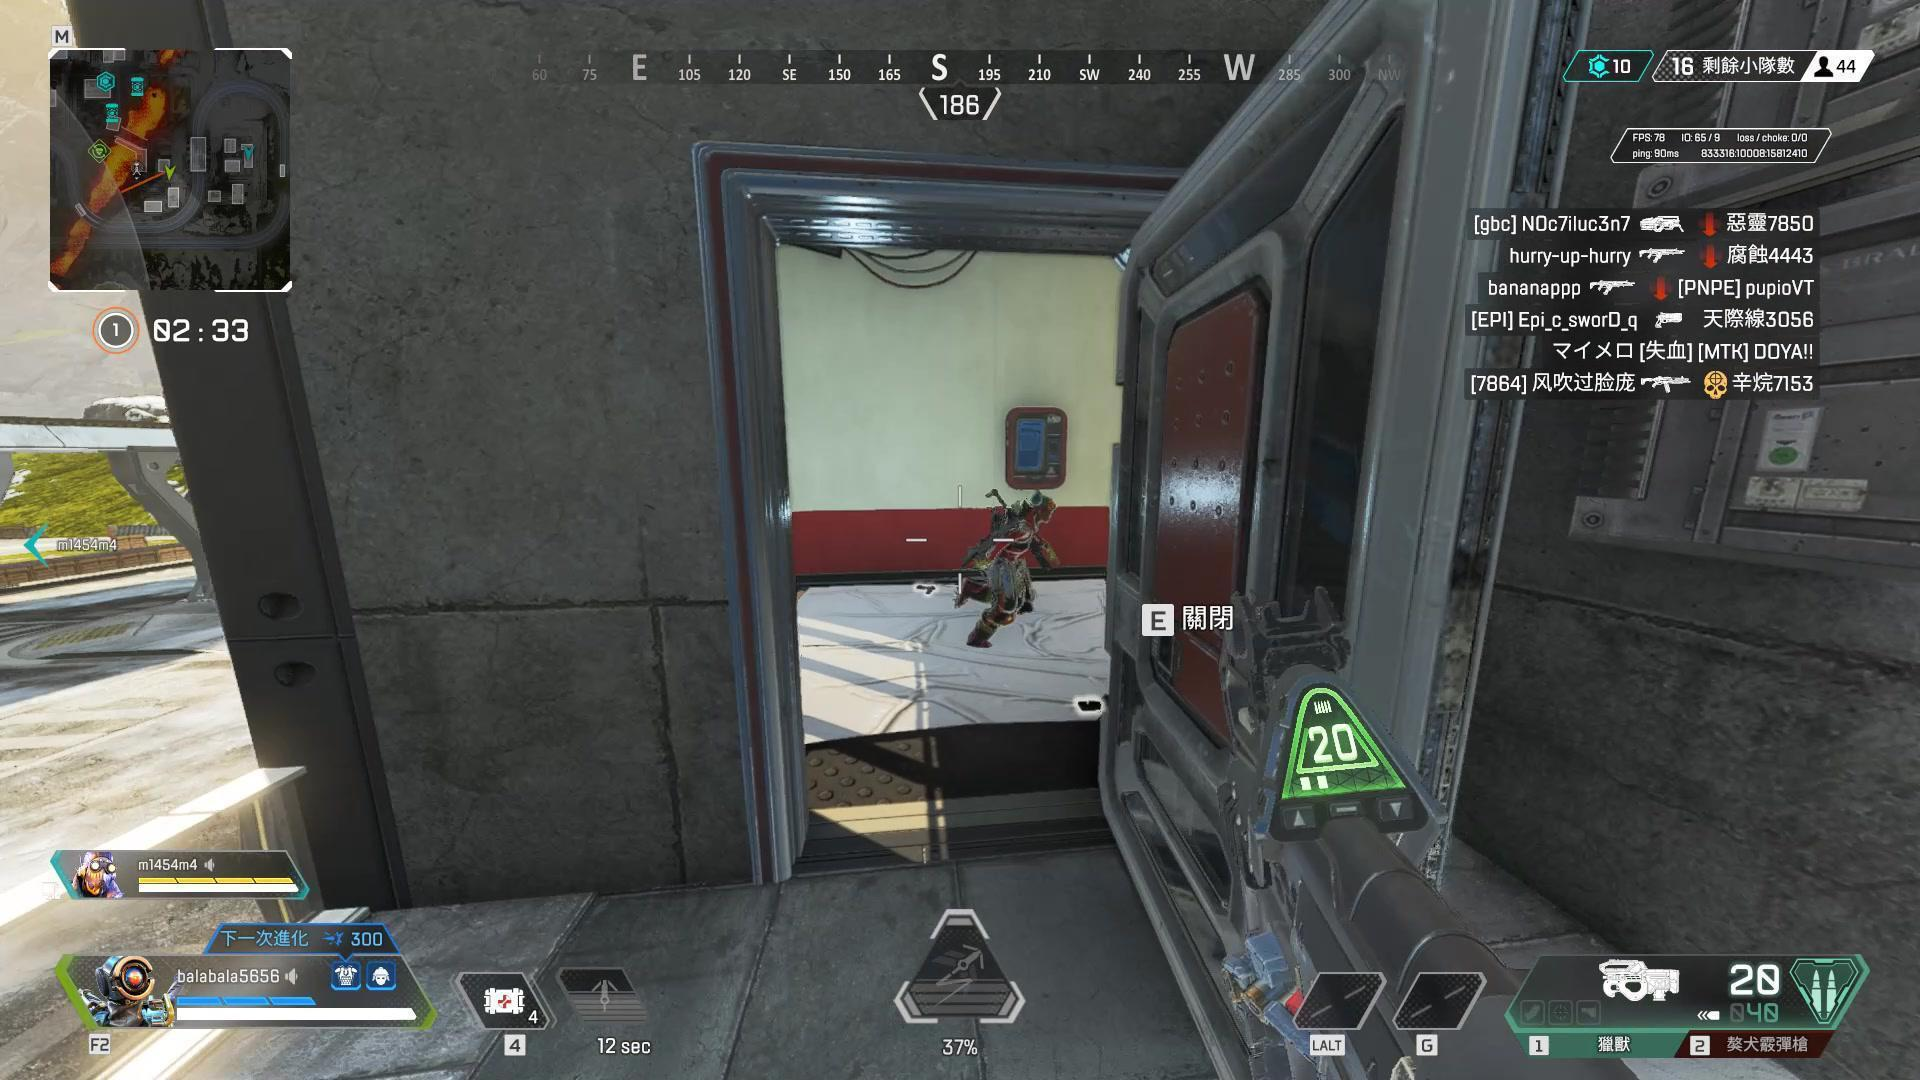avatar: (965, 487, 1059, 651)
